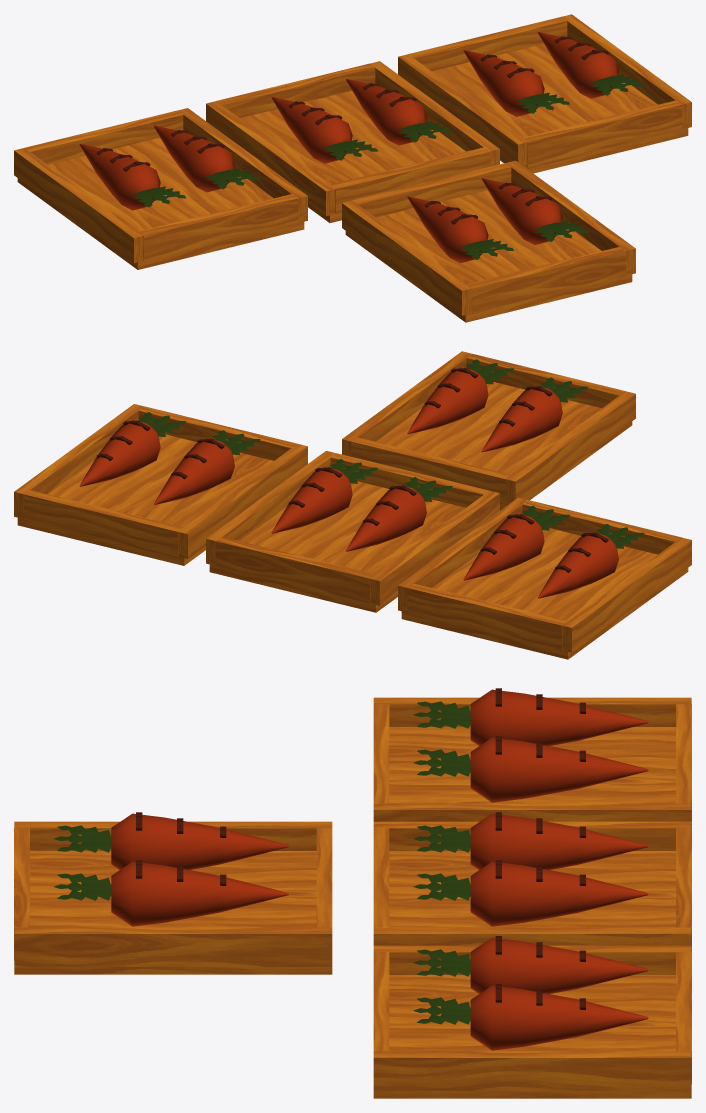
File: pile-roastedCarrot-4.obj
3 renders of one model, top to bottom at view 1: azimuth 30°, elevation 25°; view 2: azimuth 150°, elevation 25°; view 3: azimuth 270°, elevation 25°, orthographic. The views are drawn at different scales.
Visible parts, largest first — view 1: pile-roastedCarrot-4; view 2: pile-roastedCarrot-4; view 3: pile-roastedCarrot-4.
Part boxes in pixels (x1=…): pile-roastedCarrot-4: x1=14, y1=14, x2=691, y2=322; pile-roastedCarrot-4: x1=14, y1=351, x2=691, y2=659; pile-roastedCarrot-4: x1=14, y1=688, x2=691, y2=1098.
Size of the model in its own units: 0.9008 by 0.0956 by 0.7165.
Materials: 2 (2 with a texture image).
